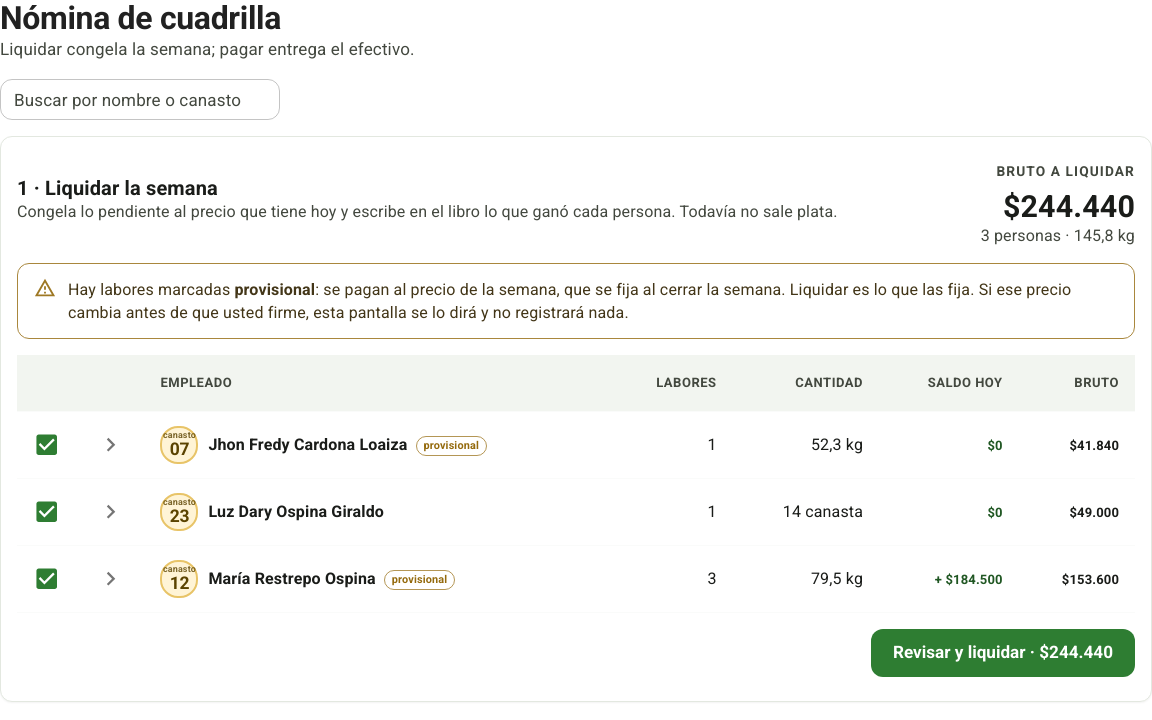
it: see it before you sign it › the dialog lists everybody again with their amount before signing
The image size is (1152, 720).
expect the heading "1 · Liquidar la semana" is shown: met, box [17,176,218,200]
Click the button "Revisar y liquidar · $244.440" at [1003, 653], box [871,629,1135,677]
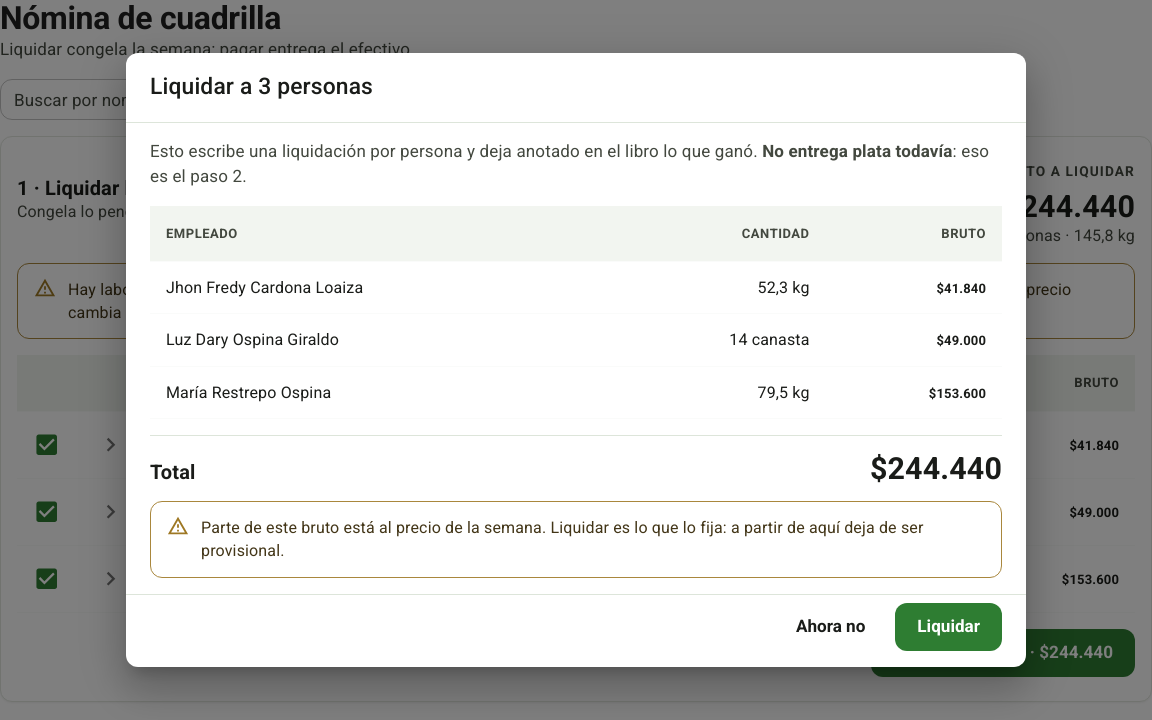
expect the heading "Liquidar a 3 personas" is shown: met, box [150,73,373,100]
expect the text "María Restrepo Ospina" is shown: met, box [150,366,604,418]
expect the text "Jhon Fredy Cardona Loaiza" is shown: met, box [150,262,604,314]
